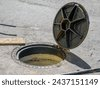open_manhole: (15, 45, 64, 64)
